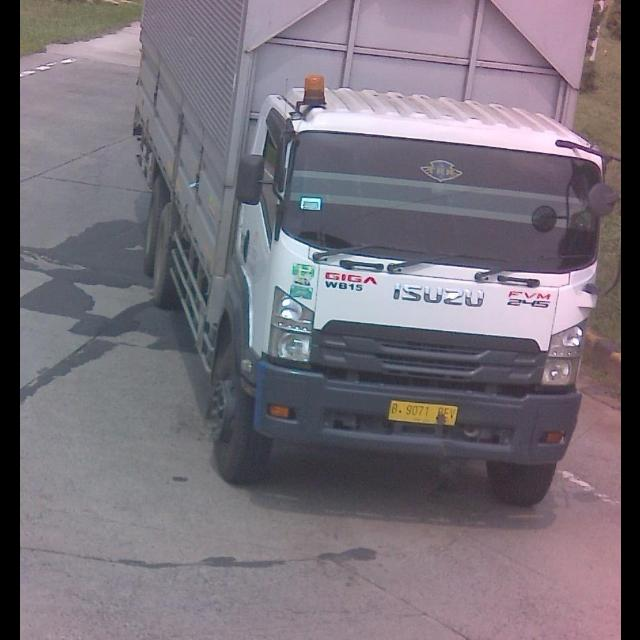plate: (386, 398, 462, 430)
